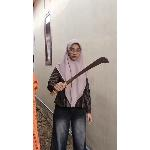Golok: (51, 56, 112, 96)
